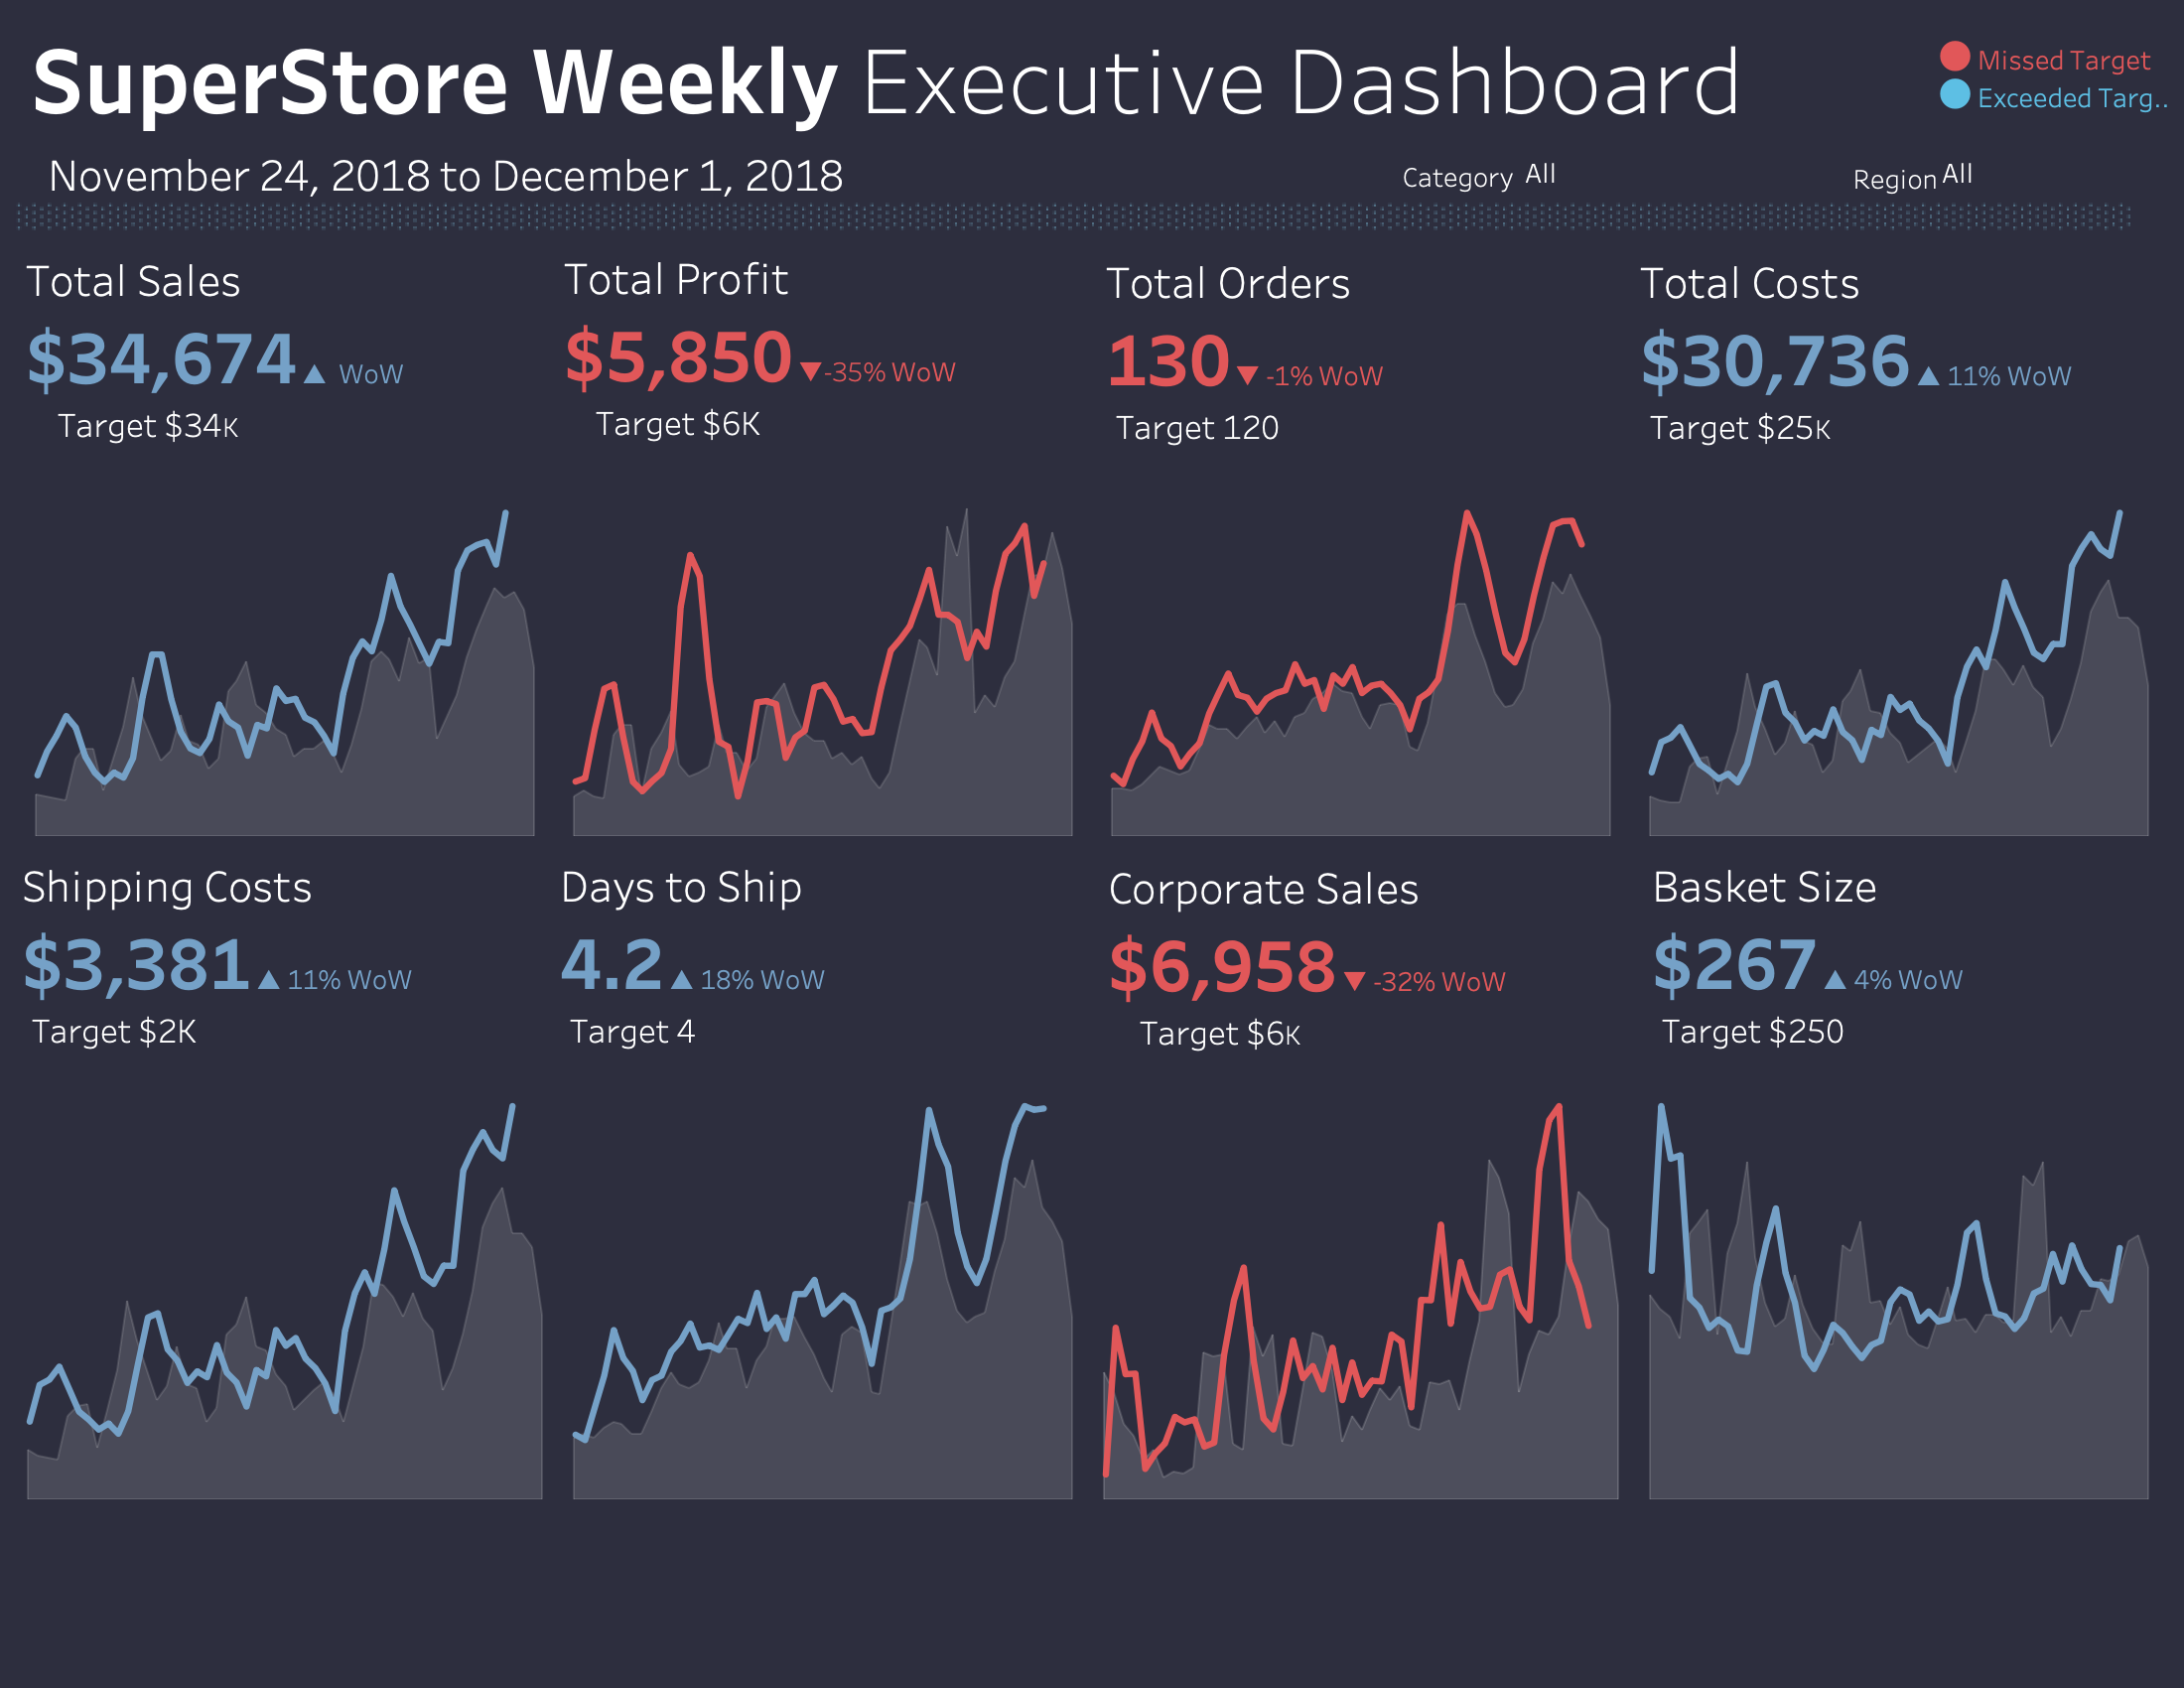

The dashboard page shown, as its layout file describes it:
{"tool":"tableau","page":{"name":"1 KPI Dashboard","canvas":[1100,850],"ordinal":0},"visuals":[{"type":"text","box":[8,8,1084,236]},{"type":"text","box":[974,11,121,34]},{"type":"text","box":[974,32,122,30]},{"type":"worksheet","title":"Date","mark":"Automatic","box":[20,73,584,36]},{"type":"text","box":[665,77,100,23]},{"type":"filter","title":"Sales Time","param":"[Sample - Superstore].[none:Category:nk]","box":[766,78,114,24]},{"type":"filter","title":"Sales KPI","param":"[Sample - Superstore].[none:Region:nk]","box":[904,78,189,24]},{"type":"image","param":"Image/Border5.png","box":[7,102,1083,14]},{"type":"worksheet","title":"Profit KPI","mark":"Automatic","cols":["Calculation_122230518285139968"],"box":[280,117,267,119]},{"type":"worksheet","title":"Sales KPI","mark":"Automatic","cols":["Calculation_122230518285139968"],"box":[9,118,267,119]},{"type":"worksheet","title":"Orders KPI","mark":"Automatic","cols":["Calculation_122230518285139968"],"box":[553,119,267,119]},{"type":"worksheet","title":"Costs KPI","mark":"Automatic","cols":["Calculation_122230518285139968"],"box":[822,119,267,119]},{"type":"worksheet","title":"Sales Time","mark":"Automatic","rows":["Calculation_122230518365425668","2017 Sales (copy)"],"cols":["Order Date"],"box":[8,244,271,181]},{"type":"worksheet","title":"Profit Time","mark":"Automatic","rows":["2017 Sales (copy 2)","2018 Sales (copy)"],"cols":["Order Date"],"box":[278.9,244,271,181]},{"type":"worksheet","title":"Order Time","mark":"Automatic","rows":["2017 Profit (copy)","2018 Profit (copy)"],"cols":["Order Date"],"box":[550,244,271,181]},{"type":"worksheet","title":"Costs Time","mark":"Automatic","rows":["2017 Orders (copy)","2017 Orders (copy) (copy)"],"cols":["Order Date"],"box":[820.9,244,271.1,181]},{"type":"worksheet","title":"Shipping Cost KPI","mark":"Automatic","cols":["Calculation_122230518285139968"],"box":[7,423,267,119]},{"type":"worksheet","title":"Discount KPI2","mark":"Automatic","cols":["Calculation_122230518285139968"],"box":[278,423,267,119]},{"type":"worksheet","title":"Basket Size KPI","mark":"Automatic","cols":["Calculation_122230518285139968"],"box":[828,423,267,119]},{"type":"worksheet","title":"Corp Sales KPI","mark":"Automatic","cols":["Calculation_122230518285139968"],"box":[554,424,267,119]},{"type":"blank","box":[8,425,1084,116]},{"type":"worksheet","title":"Shipping Cost Time","mark":"Automatic","rows":["2017 Costs (copy 2)","2018 Costs (copy)"],"cols":["Order Date"],"box":[8,541,271,218]},{"type":"worksheet","title":"Days to Ship Time","mark":"Automatic","rows":["2017 Costs (copy)","2017 Discount (copy)"],"cols":["Order Date"],"box":[279,541,271,218]},{"type":"worksheet","title":"Corp Sales Time","mark":"Automatic","rows":["Calculation_122230518365425668","2017 Sales (copy)"],"cols":["Order Date"],"box":[550,541,271,218]},{"type":"worksheet","title":"Basekt Size Time","mark":"Automatic","rows":["Calculation_122230518365425668","2017 Sales (copy)"],"cols":["Order Date"],"box":[820.9,541,271.1,218]},{"type":"blank","box":[8,759,1084,83]}]}

Visuals, with their boxes in screenshot pixels (x1, y1, x2, y2), scaled from the page's 1100x850 canvas onto the 2184x1688 screenshot:
text: <bbox>16, 16, 2168, 485</bbox>
text: <bbox>1934, 22, 2174, 89</bbox>
text: <bbox>1934, 64, 2176, 123</bbox>
"Date" worksheet: <bbox>40, 145, 1199, 216</bbox>
text: <bbox>1320, 153, 1519, 199</bbox>
"Sales Time" filter: <bbox>1521, 155, 1747, 203</bbox>
"Sales KPI" filter: <bbox>1795, 155, 2170, 203</bbox>
image: <bbox>14, 203, 2164, 230</bbox>
"Profit KPI" worksheet: <bbox>556, 232, 1086, 469</bbox>
"Sales KPI" worksheet: <bbox>18, 234, 548, 471</bbox>
"Orders KPI" worksheet: <bbox>1098, 236, 1628, 473</bbox>
"Costs KPI" worksheet: <bbox>1632, 236, 2162, 473</bbox>
"Sales Time" worksheet: <bbox>16, 485, 554, 844</bbox>
"Profit Time" worksheet: <bbox>554, 485, 1092, 844</bbox>
"Order Time" worksheet: <bbox>1092, 485, 1630, 844</bbox>
"Costs Time" worksheet: <bbox>1630, 485, 2168, 844</bbox>
"Shipping Cost KPI" worksheet: <bbox>14, 840, 544, 1076</bbox>
"Discount KPI2" worksheet: <bbox>552, 840, 1082, 1076</bbox>
"Basket Size KPI" worksheet: <bbox>1644, 840, 2174, 1076</bbox>
"Corp Sales KPI" worksheet: <bbox>1100, 842, 1630, 1078</bbox>
blank: <bbox>16, 844, 2168, 1074</bbox>
"Shipping Cost Time" worksheet: <bbox>16, 1074, 554, 1507</bbox>
"Days to Ship Time" worksheet: <bbox>554, 1074, 1092, 1507</bbox>
"Corp Sales Time" worksheet: <bbox>1092, 1074, 1630, 1507</bbox>
"Basekt Size Time" worksheet: <bbox>1630, 1074, 2168, 1507</bbox>
blank: <bbox>16, 1507, 2168, 1672</bbox>
